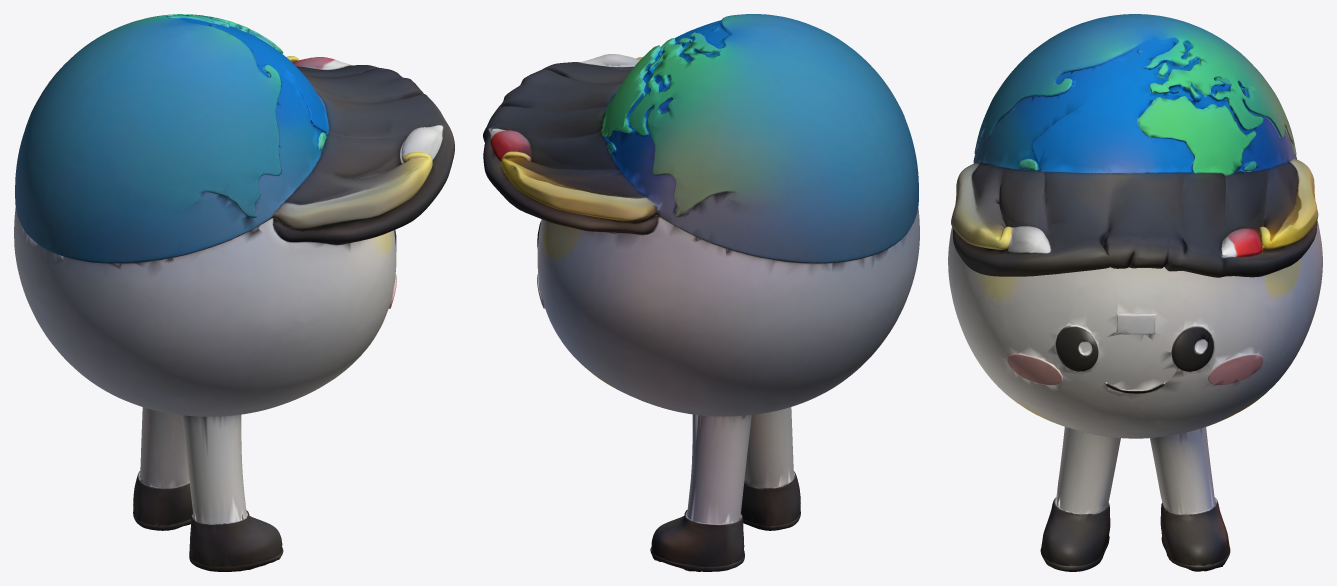
Rendered from mascot-new2-web.glb.
3 renders of one model, left to right at view 1: azimuth 30°, elevation 25°; view 2: azimuth 150°, elevation 25°; view 3: azimuth 270°, elevation 25°, orthographic.
Visible parts, largest first — view 1: tripo_node_8b04a547-5120-452c-aace-29543e5f4919; view 2: tripo_node_8b04a547-5120-452c-aace-29543e5f4919; view 3: tripo_node_8b04a547-5120-452c-aace-29543e5f4919.
Boxes of the visible parts, x1,y1,x2,y2 form: tripo_node_8b04a547-5120-452c-aace-29543e5f4919: [14, 14, 454, 571]; tripo_node_8b04a547-5120-452c-aace-29543e5f4919: [483, 14, 919, 571]; tripo_node_8b04a547-5120-452c-aace-29543e5f4919: [948, 14, 1322, 571].
Bounding box in the file's own units: 0.7547 × 0.9801 × 0.6496.
1 material, 1 textured.
